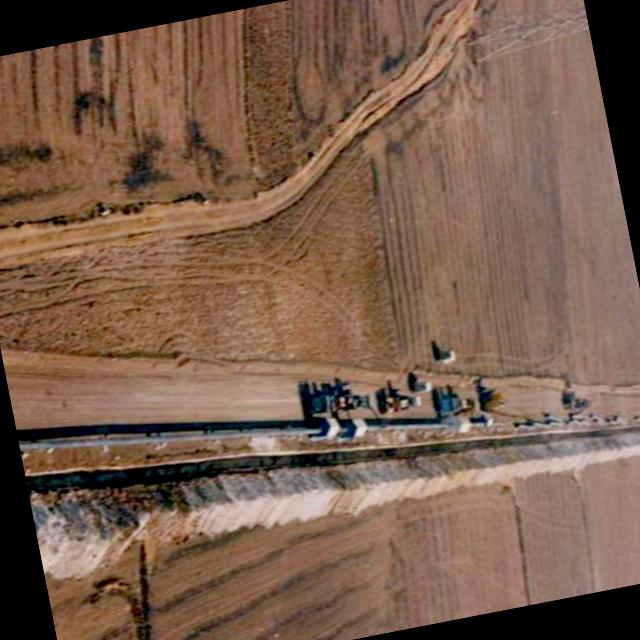gas: (18, 421, 453, 452)
